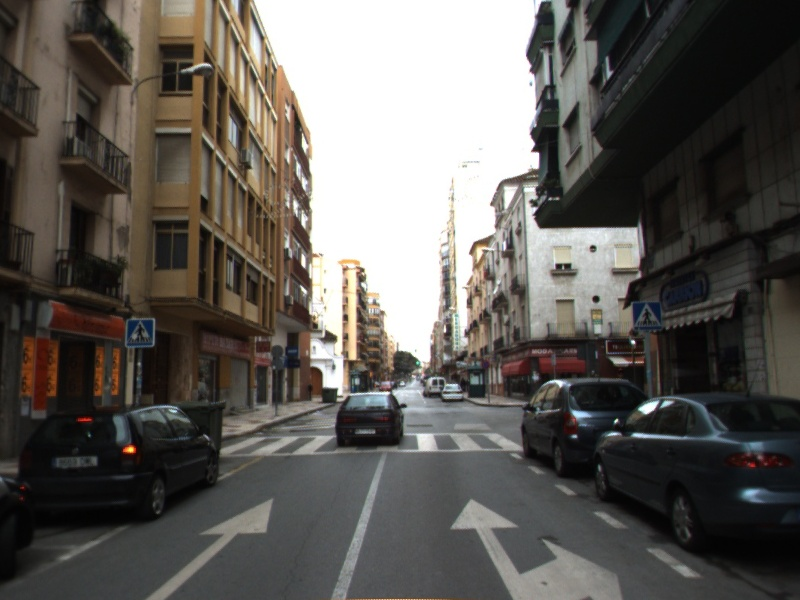STRAIGHT: (144, 496, 275, 600)
STRAIGHT_RIGHT: (448, 497, 624, 600)
